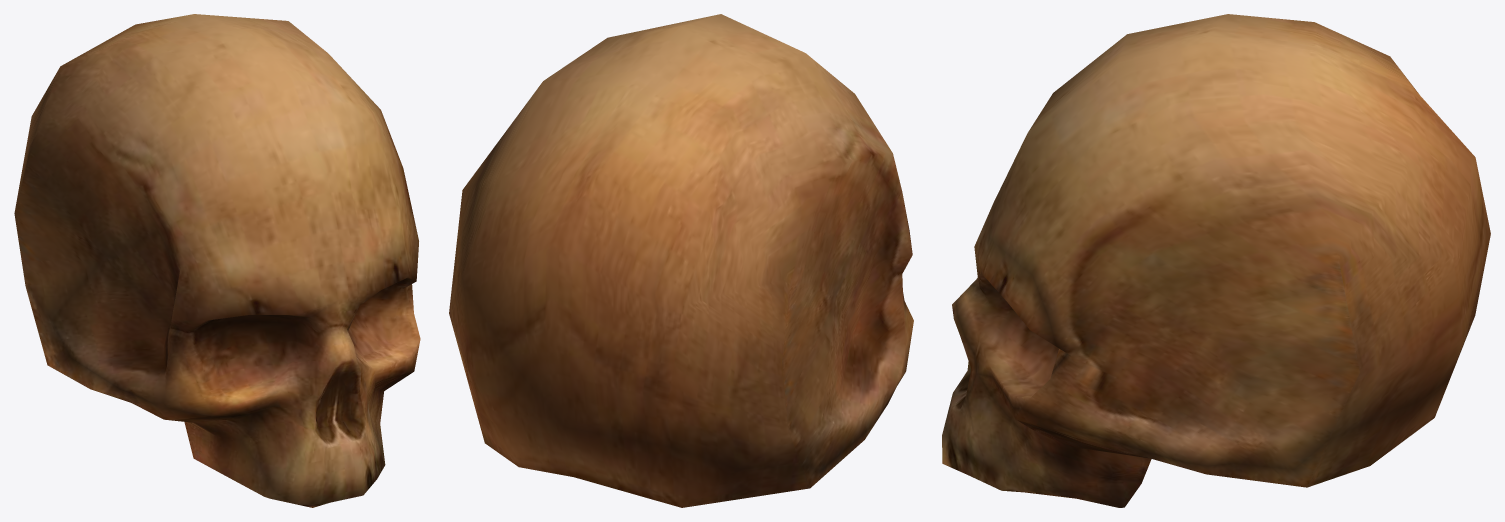
File: Quest_Skull.glb
The picture shows the model from 3 angles, left to right: view 1: azimuth 30°, elevation 25°; view 2: azimuth 150°, elevation 25°; view 3: azimuth 270°, elevation 25°; orthographic projection. The views are drawn at different scales.
Parts seen in each view (by area): view 1: Quest_Skull; view 2: Quest_Skull; view 3: Quest_Skull.
Boxes of the visible parts, box(x1,y1,x2,y2) form: Quest_Skull: box(14, 14, 420, 507); Quest_Skull: box(449, 14, 913, 507); Quest_Skull: box(942, 14, 1490, 507).
Size of the model in its own units: 0.278 by 0.35 by 0.395.
Materials: 1 (1 with a texture image).
